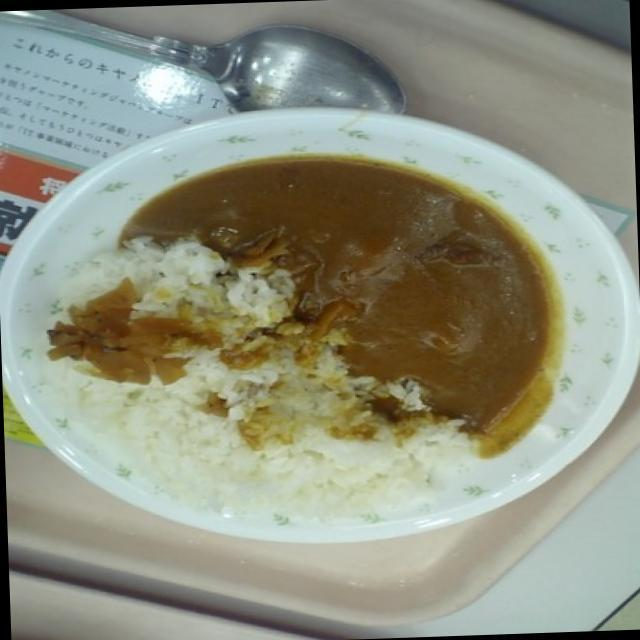Beef Curry: (171, 160, 537, 424)
